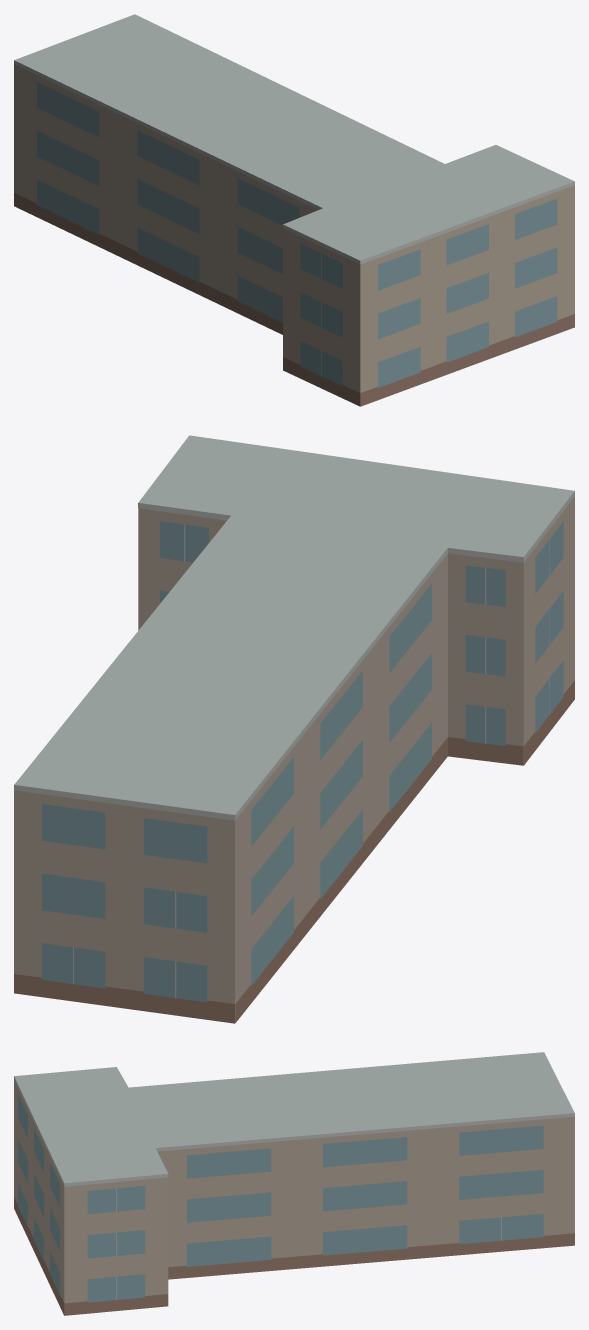
File: survey-upis-32659547.glb
The picture shows the model from 3 angles, top to bottom: view 1: azimuth 30°, elevation 25°; view 2: azimuth 150°, elevation 25°; view 3: azimuth 270°, elevation 25°; orthographic projection. The views are drawn at different scales.
Visible parts, largest first — view 1: survey-upis-32659547.tmp; view 2: survey-upis-32659547.tmp; view 3: survey-upis-32659547.tmp.
Boxes of the visible parts, bbox=[...] form: survey-upis-32659547.tmp: bbox=[14, 14, 574, 406]; survey-upis-32659547.tmp: bbox=[14, 435, 574, 1023]; survey-upis-32659547.tmp: bbox=[14, 1052, 574, 1315].
Bounding box in the file's own units: 19.46 × 9.15 × 35.12.
